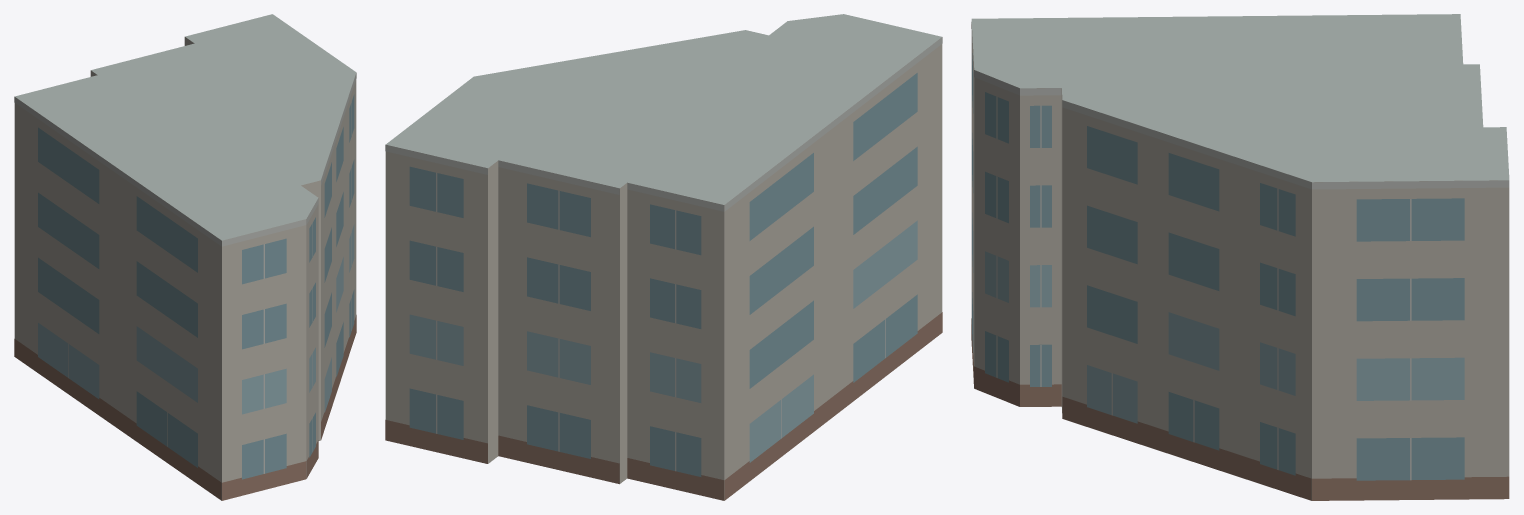
The model's file is survey-upis-32617741.glb.
3 renders of one model, left to right at view 1: azimuth 30°, elevation 25°; view 2: azimuth 150°, elevation 25°; view 3: azimuth 270°, elevation 25°, orthographic. The views are drawn at different scales.
Parts seen in each view (by area): view 1: survey-upis-32617741.tmp; view 2: survey-upis-32617741.tmp; view 3: survey-upis-32617741.tmp.
Boxes of the visible parts, left/top/right/bottom form: survey-upis-32617741.tmp: left=14, top=14, right=356, bottom=500; survey-upis-32617741.tmp: left=385, top=14, right=942, bottom=500; survey-upis-32617741.tmp: left=971, top=14, right=1509, bottom=500.
Size of the model in its own units: 12 by 10.6 by 16.23.
